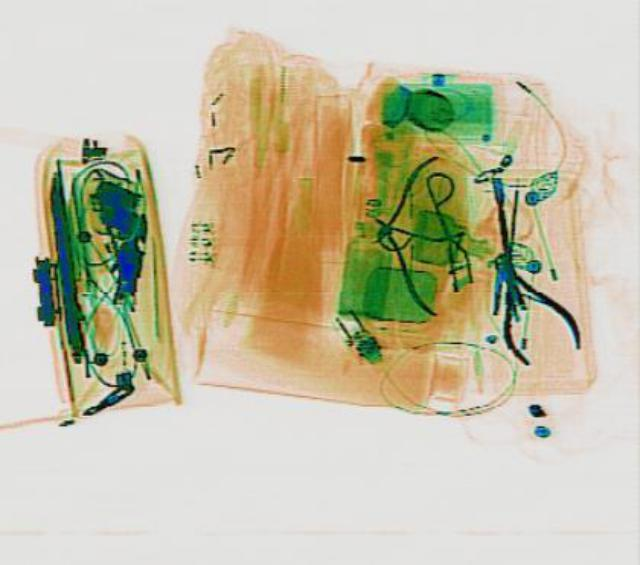Pliers: (460, 229, 588, 368), (364, 151, 442, 314)
